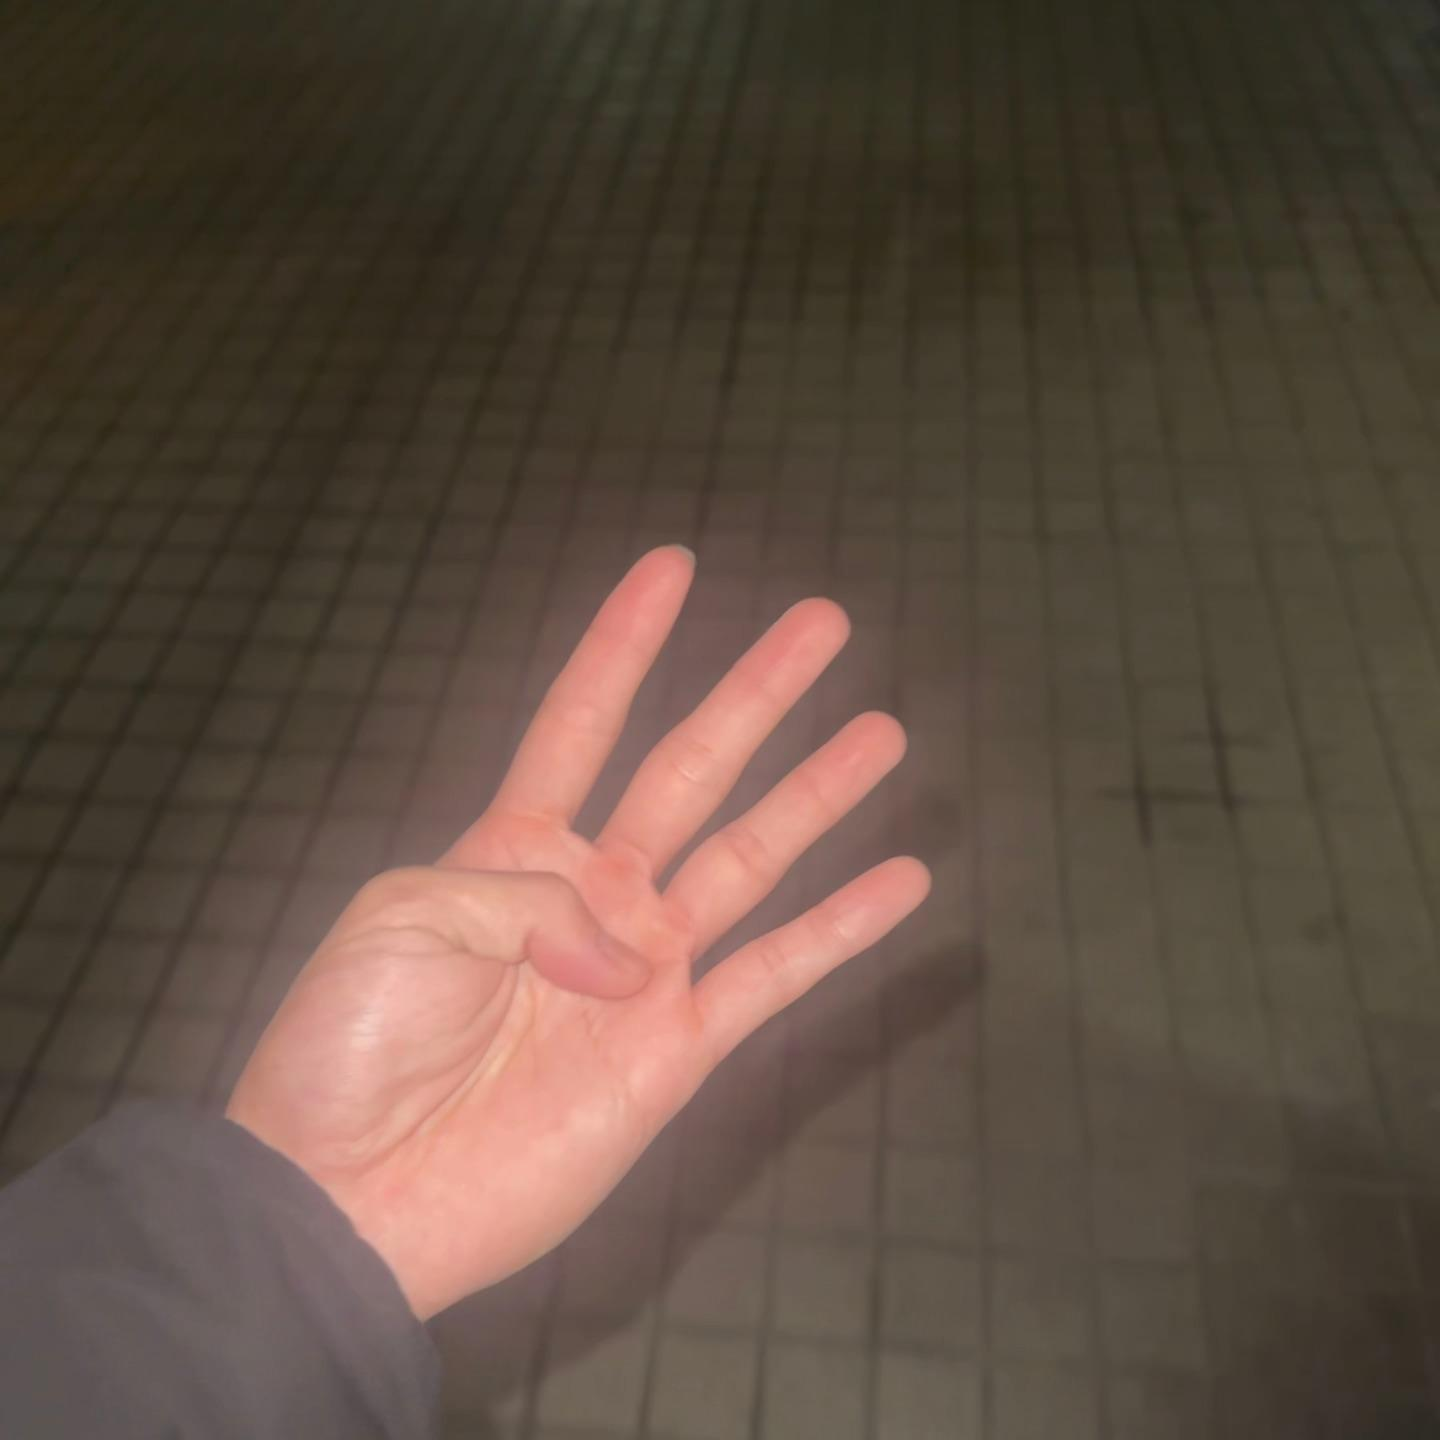without_gloves: (178, 380, 1116, 1280)
